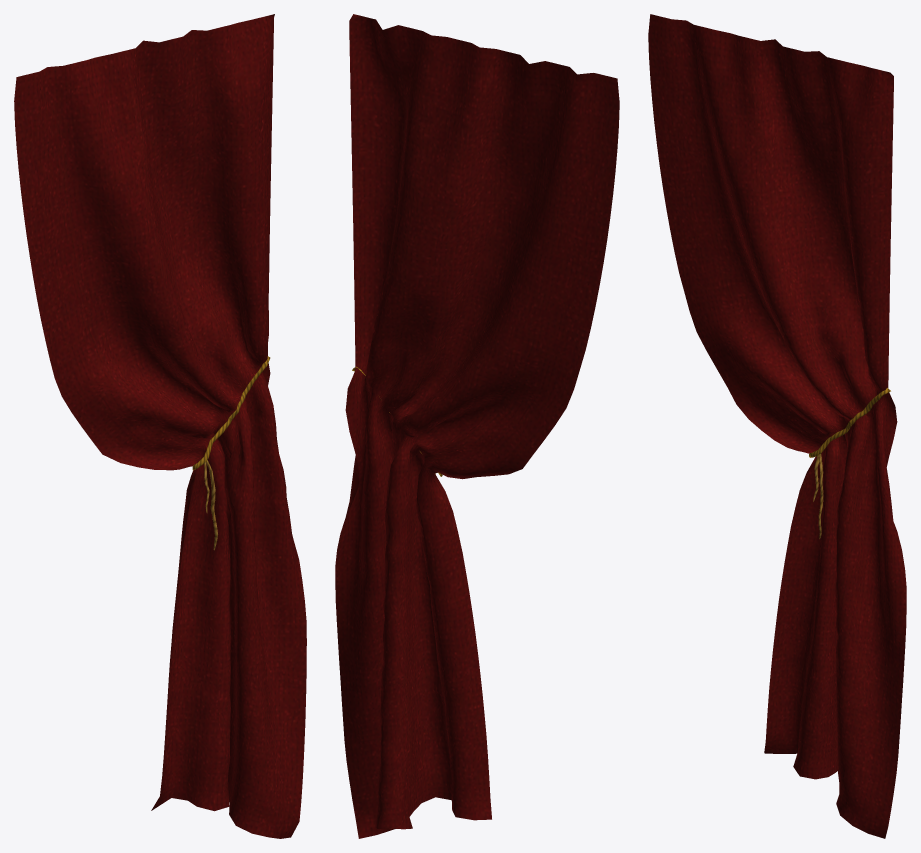
Rendered from Modeling_Curtain_R.FBX.
The picture shows the model from 3 angles, left to right: view 1: azimuth 30°, elevation 25°; view 2: azimuth 150°, elevation 25°; view 3: azimuth 330°, elevation 25°; orthographic projection. The views are drawn at different scales.
Parts seen in each view (by area): view 1: Modeling_curtain_3_R; view 2: Modeling_curtain_3_R; view 3: Modeling_curtain_3_R.
Boxes of the visible parts, box(x1,y1,x2,y2) form: Modeling_curtain_3_R: box(14, 14, 306, 838); Modeling_curtain_3_R: box(335, 14, 619, 838); Modeling_curtain_3_R: box(648, 14, 906, 838).
Bounding box in the file's own units: 235 × 646 × 54.16.
